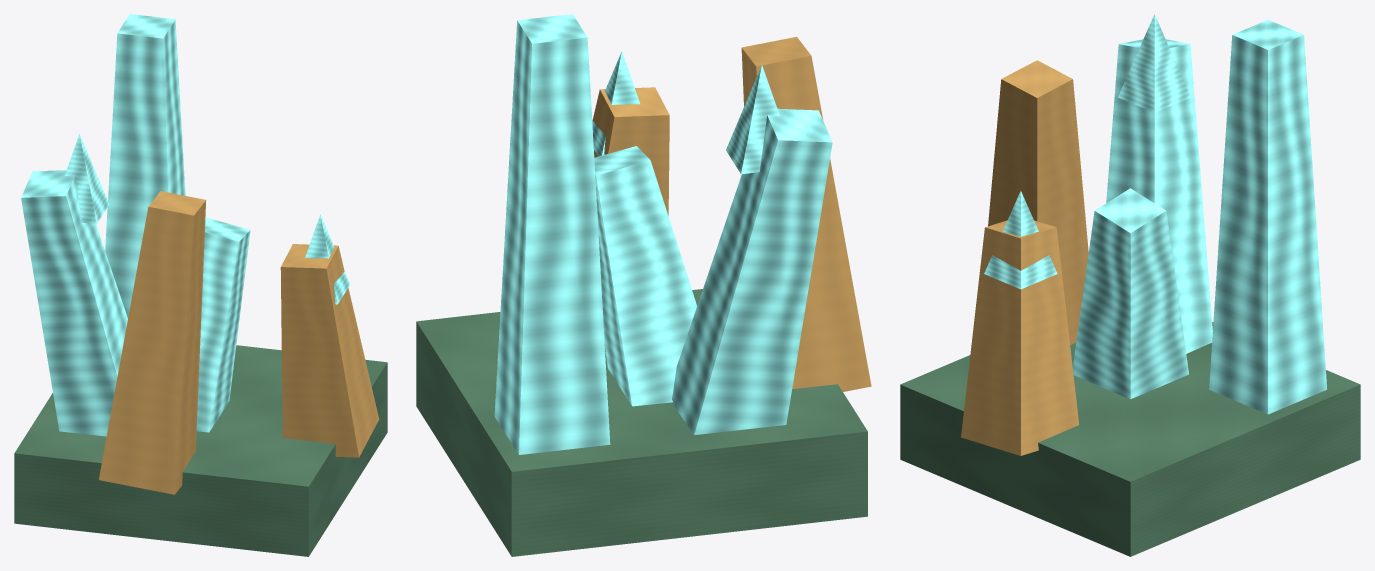
Rendered from atlas100-s002-a04.lod2.glb.
The picture shows the model from 3 angles, left to right: view 1: azimuth 30°, elevation 25°; view 2: azimuth 150°, elevation 25°; view 3: azimuth 270°, elevation 25°; orthographic projection. The views are drawn at different scales.
Parts seen in each view (by area): view 1: atlas100-s002-a04:part-000, atlas100-s002-a04:part-003, atlas100-s002-a04:part-009, atlas100-s002-a04:part-005, atlas100-s002-a04:part-007, atlas100-s002-a04:part-001, atlas100-s002-a04:part-010, atlas100-s002-a04:part-008; view 2: atlas100-s002-a04:part-000, atlas100-s002-a04:part-005, atlas100-s002-a04:part-009, atlas100-s002-a04:part-001, atlas100-s002-a04:part-003, atlas100-s002-a04:part-007, atlas100-s002-a04:part-010, atlas100-s002-a04:part-008; view 3: atlas100-s002-a04:part-000, atlas100-s002-a04:part-005, atlas100-s002-a04:part-007, atlas100-s002-a04:part-001, atlas100-s002-a04:part-003, atlas100-s002-a04:part-009, atlas100-s002-a04:part-010, atlas100-s002-a04:part-008.
Part boxes in pixels (x1,y1,x2,y2): atlas100-s002-a04:part-000: (14, 345, 387, 556); atlas100-s002-a04:part-003: (99, 191, 206, 494); atlas100-s002-a04:part-009: (21, 170, 127, 436); atlas100-s002-a04:part-005: (105, 14, 185, 317); atlas100-s002-a04:part-007: (280, 244, 379, 457); atlas100-s002-a04:part-001: (196, 217, 250, 432); atlas100-s002-a04:part-010: (64, 134, 109, 224); atlas100-s002-a04:part-008: (305, 214, 349, 304); atlas100-s002-a04:part-000: (416, 289, 867, 556); atlas100-s002-a04:part-005: (494, 14, 610, 454); atlas100-s002-a04:part-009: (672, 108, 832, 434); atlas100-s002-a04:part-001: (594, 146, 696, 406); atlas100-s002-a04:part-003: (741, 36, 871, 391); atlas100-s002-a04:part-007: (592, 87, 669, 215); atlas100-s002-a04:part-010: (726, 65, 779, 174); atlas100-s002-a04:part-008: (592, 51, 640, 156); atlas100-s002-a04:part-000: (900, 322, 1360, 556); atlas100-s002-a04:part-005: (1209, 20, 1326, 414); atlas100-s002-a04:part-007: (961, 220, 1079, 455); atlas100-s002-a04:part-001: (1072, 188, 1188, 399); atlas100-s002-a04:part-003: (988, 60, 1088, 344); atlas100-s002-a04:part-009: (1106, 39, 1212, 353); atlas100-s002-a04:part-010: (1118, 14, 1191, 112); atlas100-s002-a04:part-008: (984, 191, 1057, 289).
Bounding box in the file's own units: 1.07 × 1.1 × 1.07.
3 materials, 3 textured.
